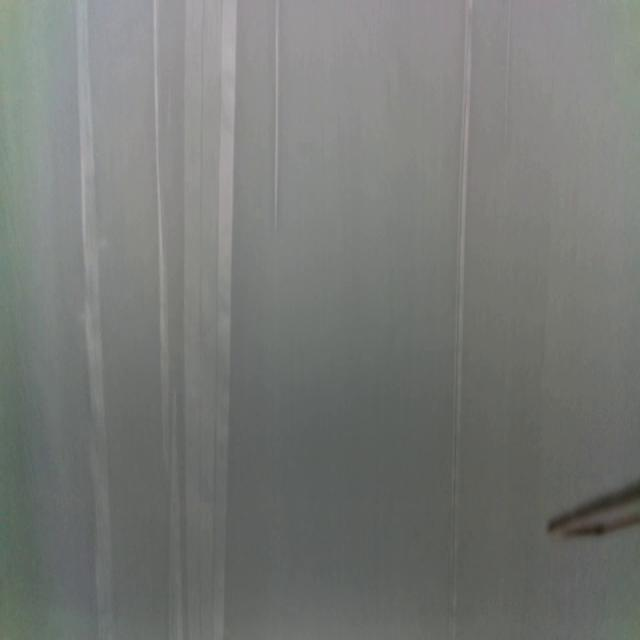crease: (184, 0, 238, 639), (76, 0, 115, 640), (448, 0, 473, 640), (152, 0, 170, 461), (170, 391, 184, 640), (272, 0, 282, 237), (503, 1, 512, 151)
